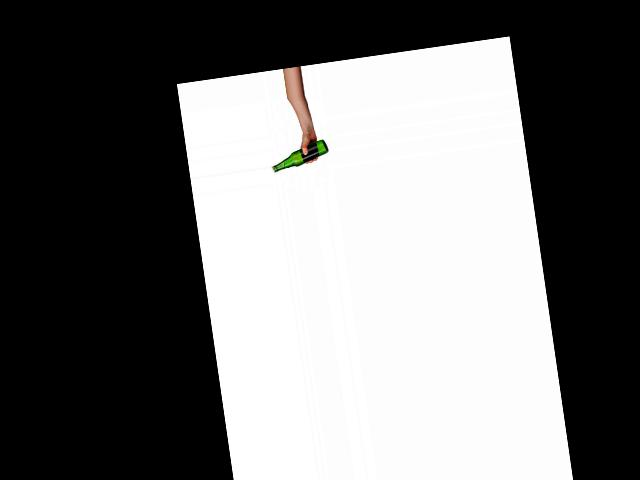beer: (269, 138, 330, 172)
